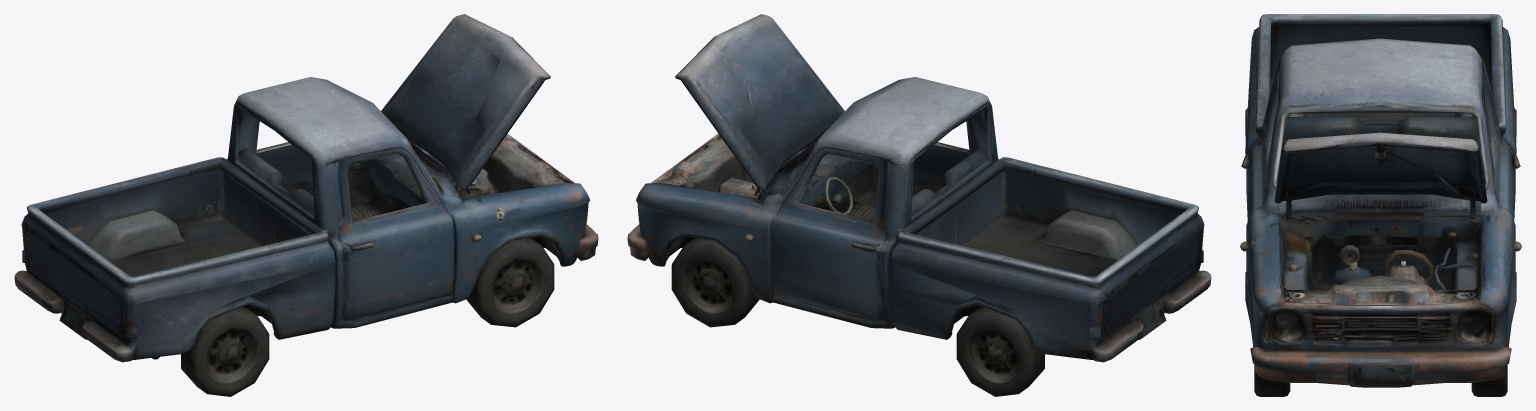
Rendered from pickup_truck_01.fbx.
3 renders of one model, left to right at view 1: azimuth 30°, elevation 25°; view 2: azimuth 150°, elevation 25°; view 3: azimuth 270°, elevation 25°, orthographic. The views are drawn at different scales.
Visible parts, largest first — view 1: tripo_node_1ccfaec3; view 2: tripo_node_1ccfaec3; view 3: tripo_node_1ccfaec3.
Part boxes in pixels (x1,y1,x2,y2): tripo_node_1ccfaec3: (14, 14, 598, 396); tripo_node_1ccfaec3: (627, 14, 1211, 396); tripo_node_1ccfaec3: (1240, 14, 1521, 396).
Bounding box in the file's own units: 0.998 × 0.4736 × 0.4286.
1 material, 1 textured.
